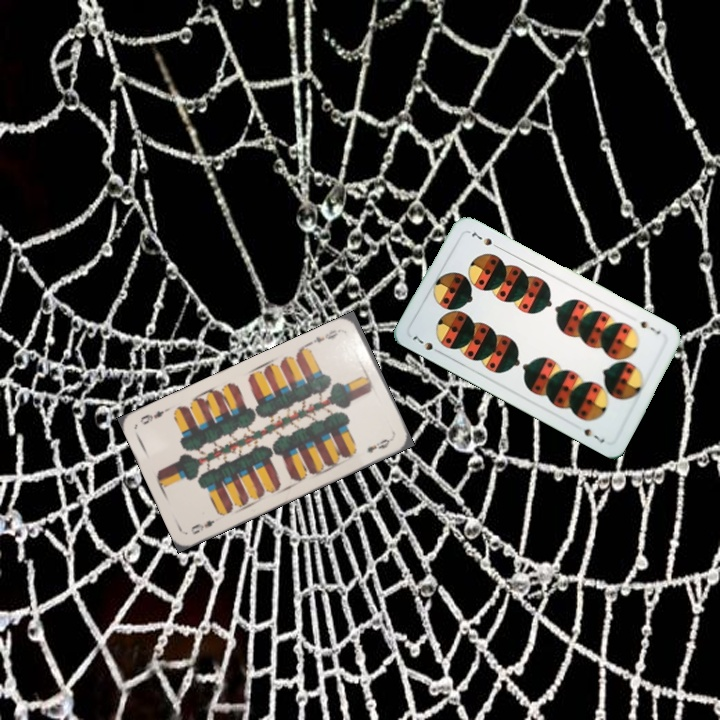E9: (306, 325, 345, 347), (187, 516, 217, 537)
S7: (408, 331, 445, 357), (636, 317, 663, 337)
